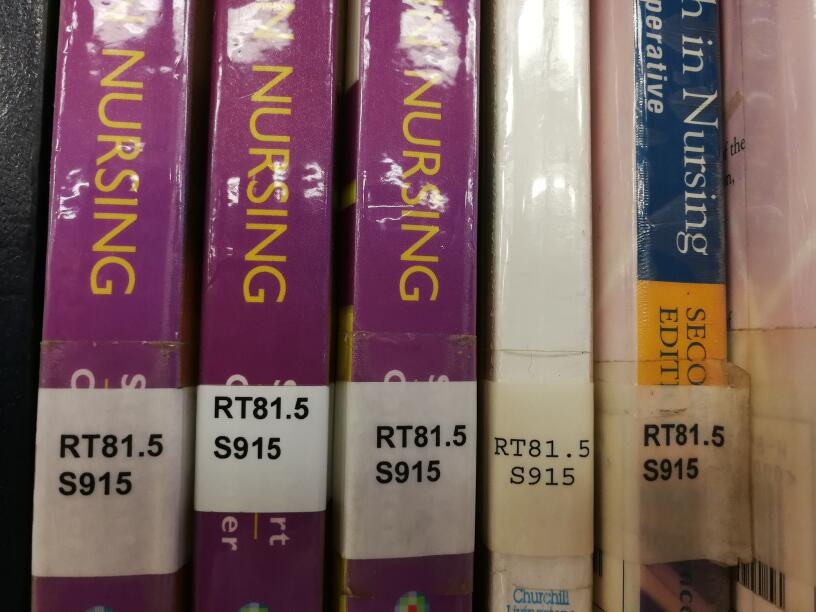booklabel: (58, 430, 165, 497), (210, 394, 310, 461), (372, 423, 468, 485), (491, 435, 592, 488), (640, 422, 726, 482)
